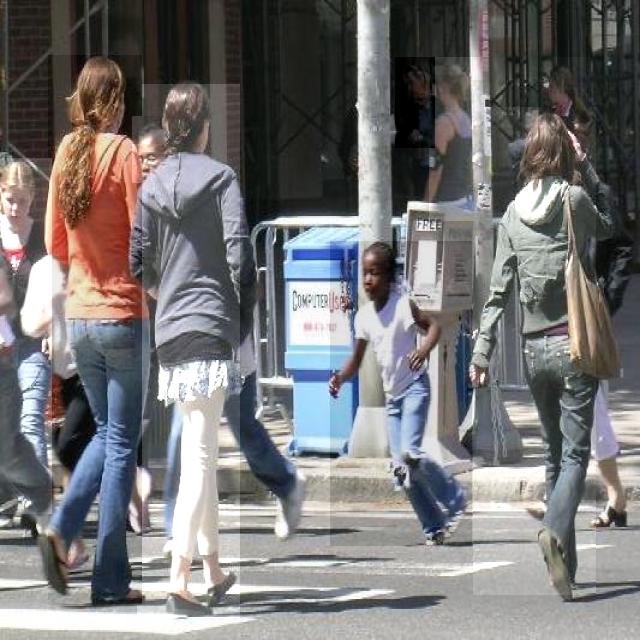with scooter: (473, 108, 596, 596), (137, 84, 240, 618), (49, 55, 142, 606), (330, 241, 472, 546), (0, 158, 52, 514), (429, 57, 483, 221), (395, 57, 435, 148), (546, 57, 590, 136), (132, 116, 170, 183)
